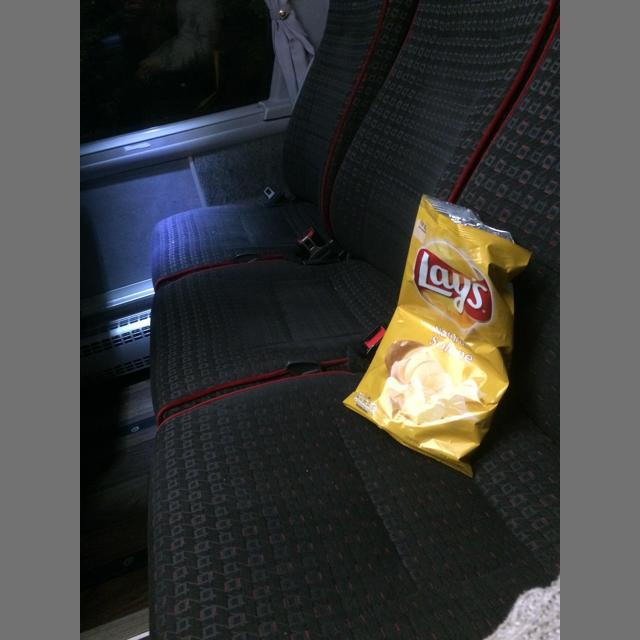litter: (343, 194, 532, 478)
